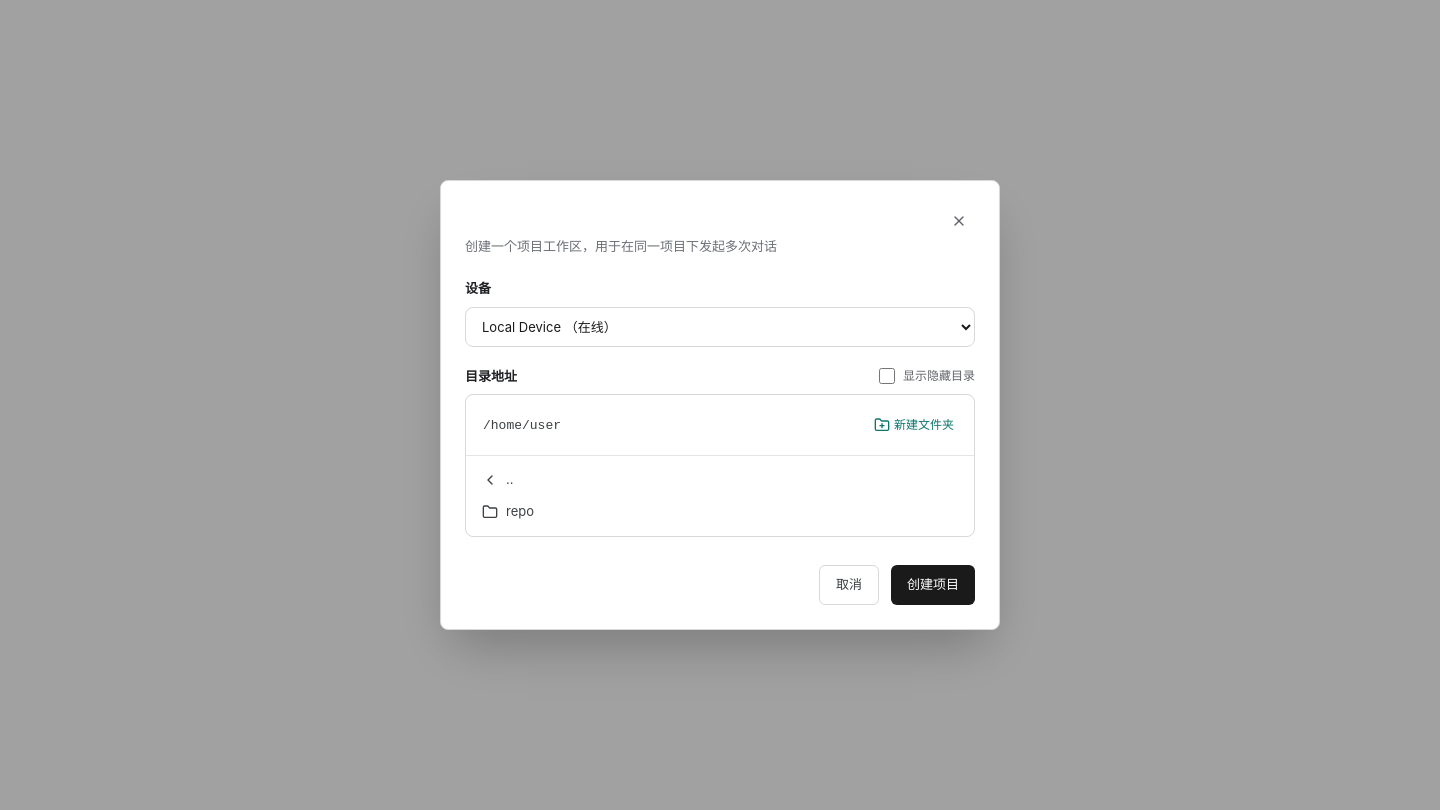
ProjectCreateDialog › opens the only fuzzy path match when Enter is pressed
Replace the text in the field with test id "project-directory-path-input" with "/home/user/re": (668, 425) x1=478 y1=409 x2=858 y2=441
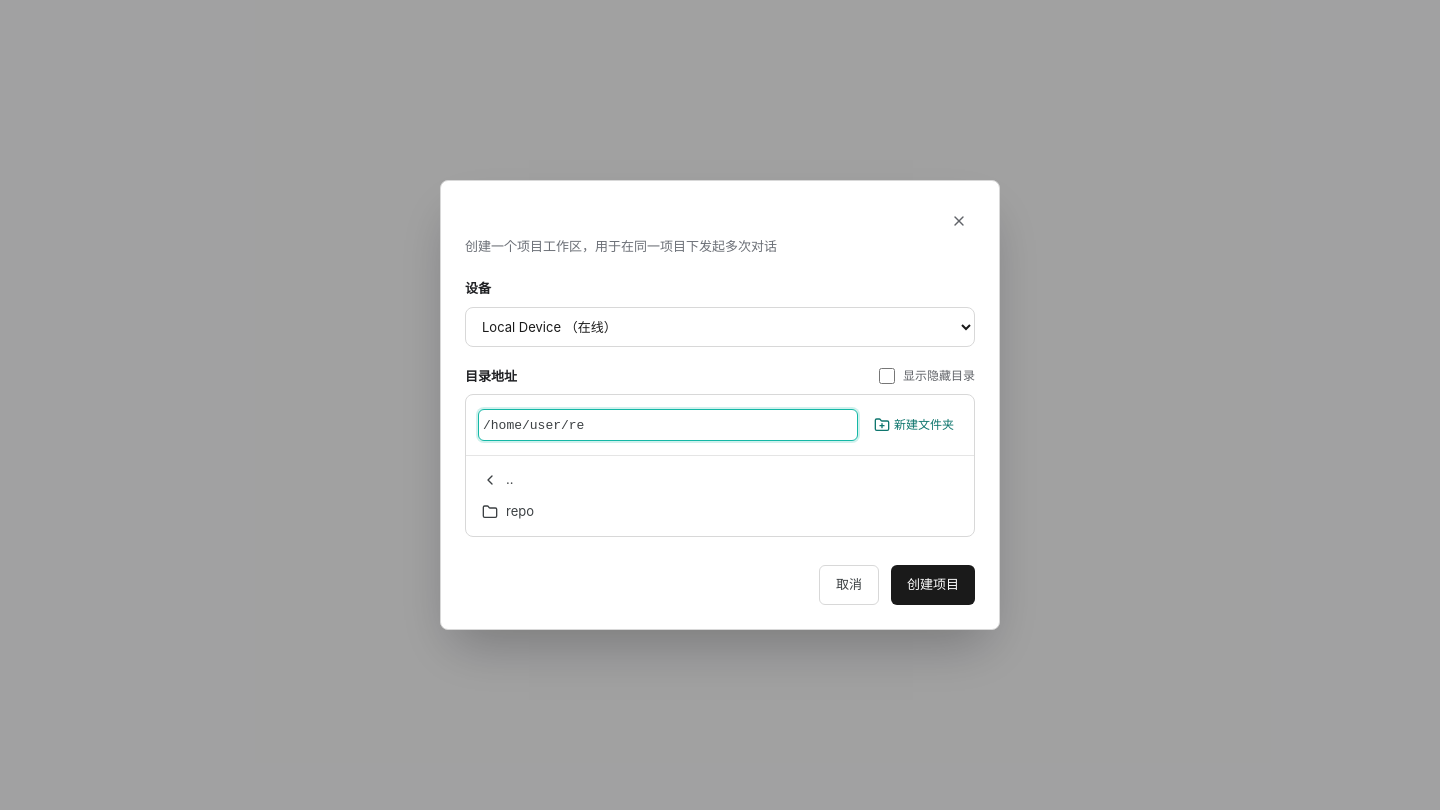
Press Enter in the field with test id "project-directory-path-input", box x1=478 y1=409 x2=858 y2=441
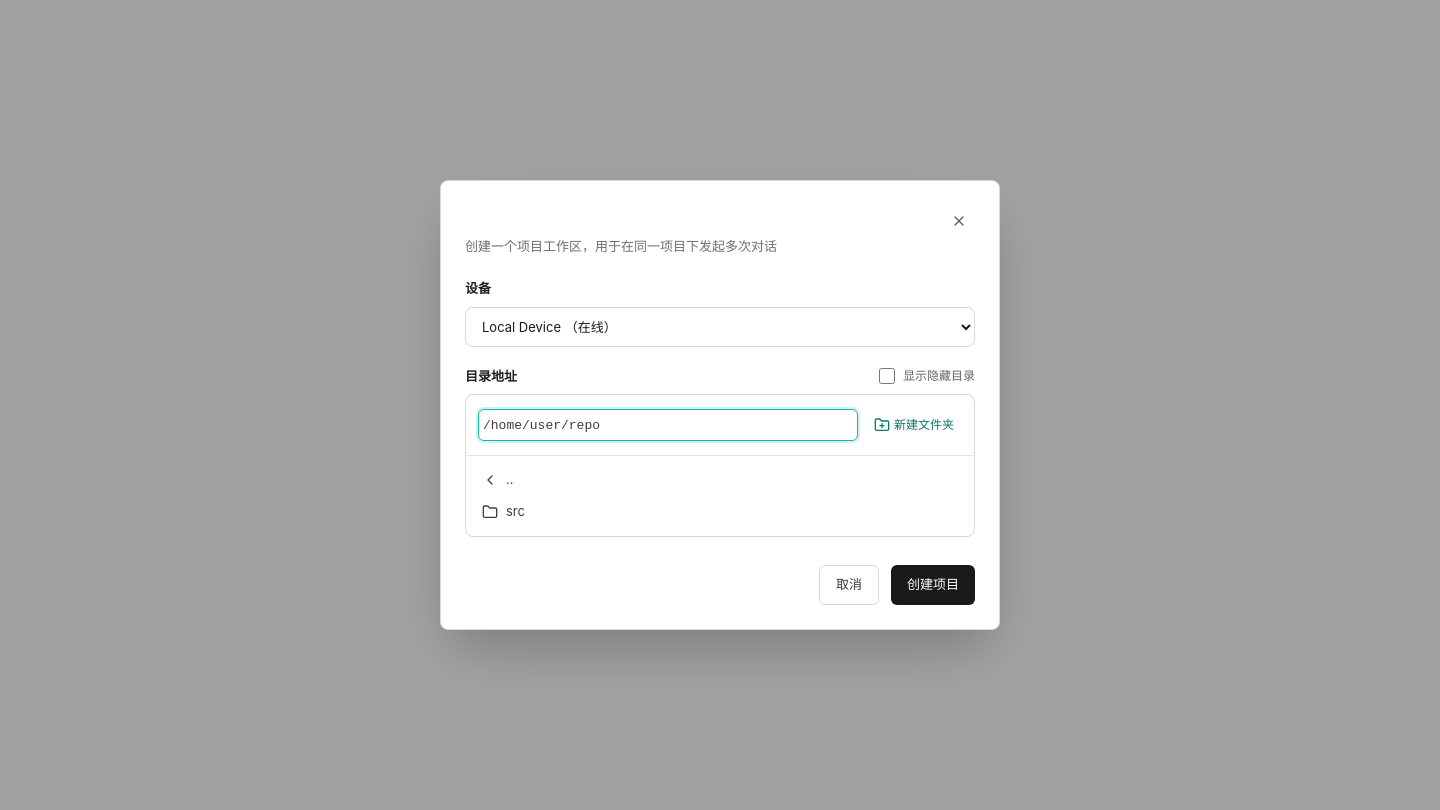
Now the field with test id "project-directory-path-input" holds "/home/user/repo", box x1=478 y1=409 x2=858 y2=441
Now the text "src" is shown, box x1=506 y1=503 x2=525 y2=519
